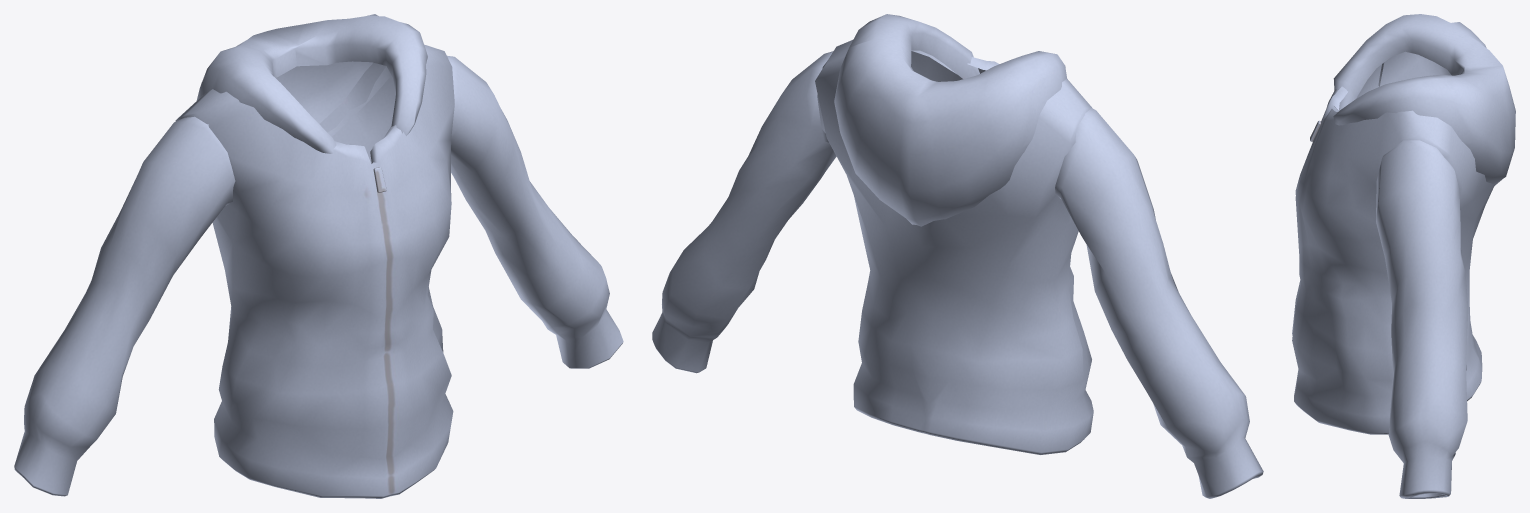
The model's file is white_hoodie_with_zipper.glb.
The picture shows the model from 3 angles, left to right: view 1: azimuth 30°, elevation 25°; view 2: azimuth 150°, elevation 25°; view 3: azimuth 270°, elevation 25°; orthographic projection. The views are drawn at different scales.
Visible parts, largest first — view 1: jacket_low; view 2: jacket_low; view 3: jacket_low.
Part boxes in pixels (x1,y1,x2,y2): jacket_low: [14, 14, 623, 498]; jacket_low: [652, 14, 1263, 498]; jacket_low: [1292, 14, 1515, 498].
Size of the model in its own units: 6.9 by 4.47 by 2.56.
Materials: 1 (1 with a texture image).
